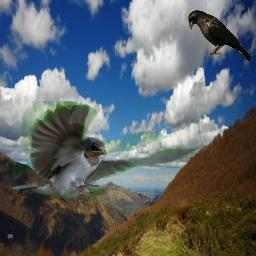Crow: (188, 10, 252, 61)
Swallow: (12, 101, 197, 199)
